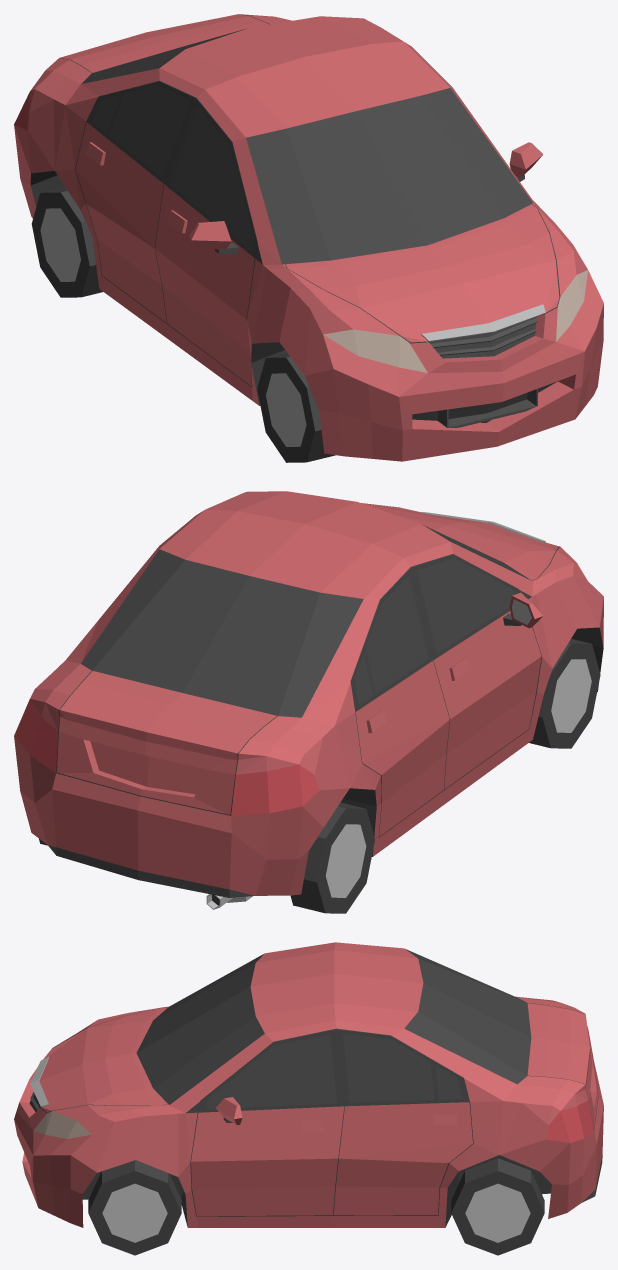
The model's file is CarSedan1Red.fbx.
The picture shows the model from 3 angles, top to bottom: view 1: azimuth 30°, elevation 25°; view 2: azimuth 150°, elevation 25°; view 3: azimuth 270°, elevation 25°; orthographic projection. The views are drawn at different scales.
Parts seen in each view (by area): view 1: Cube, wheel_rr, wheel_fr; view 2: Cube, wheel_rr, wheel_fr; view 3: Cube, wheel_rl, wheel_fl.
Boxes of the visible parts, x1,y1,x2,y2 form: Cube: (14,14,603,461); wheel_rr: (31,187,102,297); wheel_fr: (257,353,335,462); Cube: (14,491,603,909); wheel_rr: (290,802,374,913); wheel_fr: (529,638,600,748); Cube: (14,942,603,1227); wheel_rl: (451,1158,544,1255); wheel_fl: (88,1160,181,1255).
Bounding box in the file's own units: 2.04 × 1.55 × 3.67.
